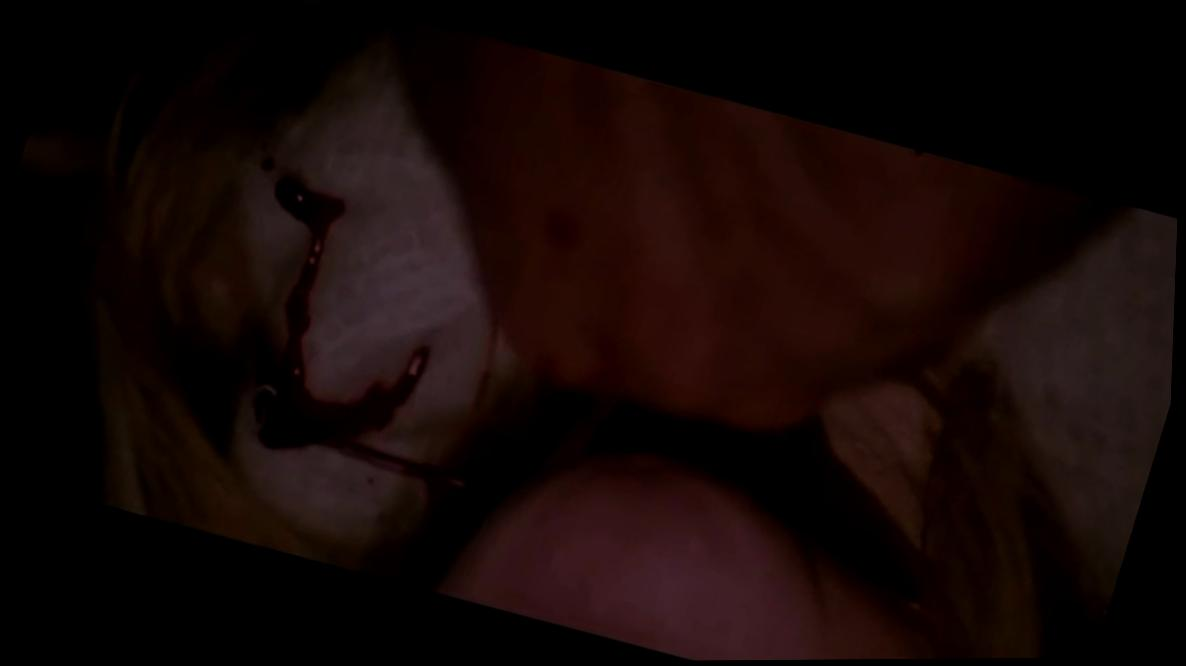Fire: (254, 178, 468, 509)
